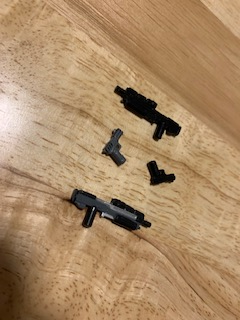pistol: (99, 127, 130, 168), (143, 158, 178, 188)
rifle: (68, 186, 153, 240), (112, 83, 184, 143)
